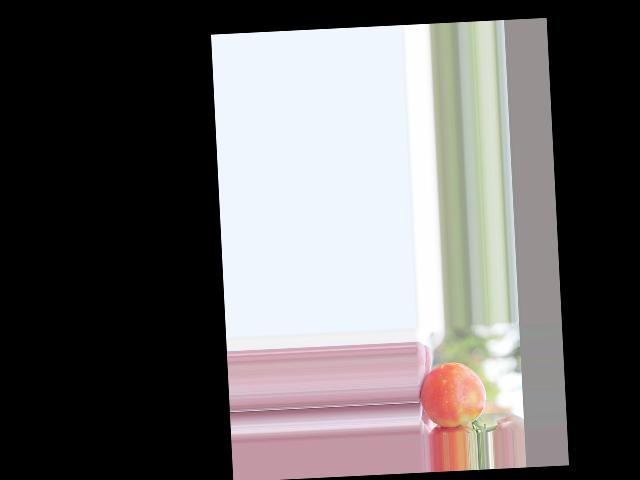tomato: (419, 360, 487, 427)
